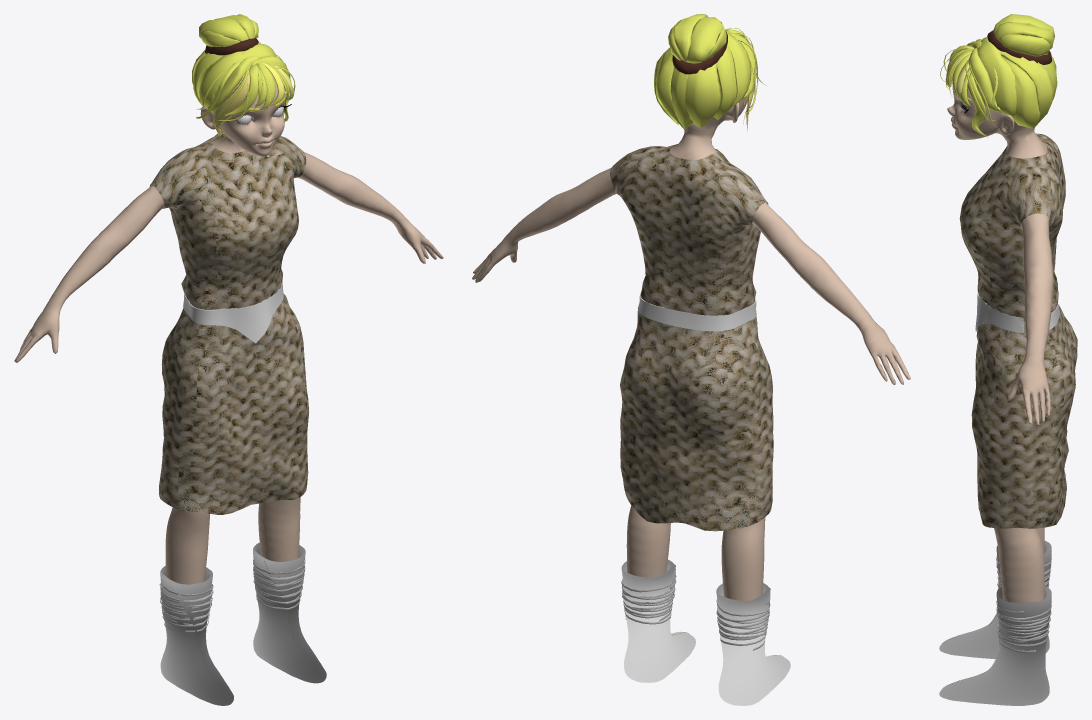
Rendered from LumiRiggedClothed2.0.fbx.
The picture shows the model from 3 angles, left to right: view 1: azimuth 30°, elevation 25°; view 2: azimuth 150°, elevation 25°; view 3: azimuth 270°, elevation 25°; orthographic projection. The views are drawn at different scales.
Visible parts, largest first — view 1: Dress, Body, Hair, Boots.002, Boots.001, Boot Straps, Belt; view 2: Dress, Body, Hair, Boots.002, Boots.001, Boot Straps, Belt; view 3: Dress, Body, Hair, Boots.001, Boots.002, Boot Straps, Belt.
Part boxes in pixels (x1,y1,x2,y2): Dress: (149,136,308,514); Body: (14,78,443,584); Hair: (192,14,295,143); Boots.002: (160,566,233,705); Boots.001: (253,542,326,683); Boot Straps: (159,557,305,632); Belt: (183,281,283,343); Dress: (610,144,773,531); Body: (472,97,910,600); Hair: (654,14,765,131); Boots.002: (716,583,790,705); Boots.001: (621,559,695,682); Boot Straps: (621,575,770,650); Belt: (637,292,756,331); Dress: (959,133,1077,528); Body: (947,60,1053,602); Hair: (940,14,1057,137); Boots.001: (939,586,1051,705); Boots.002: (939,540,1051,659); Boot Straps: (996,555,1051,652); Belt: (975,291,1059,333).
Size of the model in its own units: 277 by 404 by 77.
